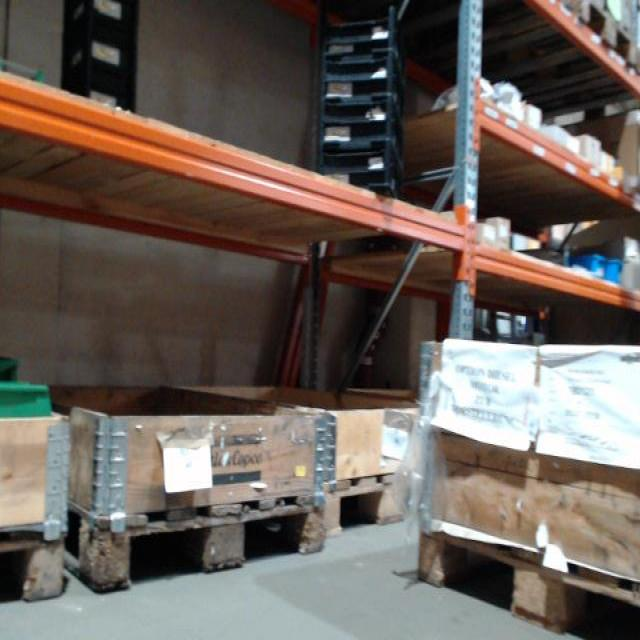pallet: (68, 480, 332, 591), (411, 519, 639, 635), (431, 3, 639, 83), (323, 462, 423, 547), (2, 516, 71, 611)
